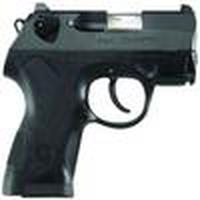gun: (1, 4, 200, 197)
